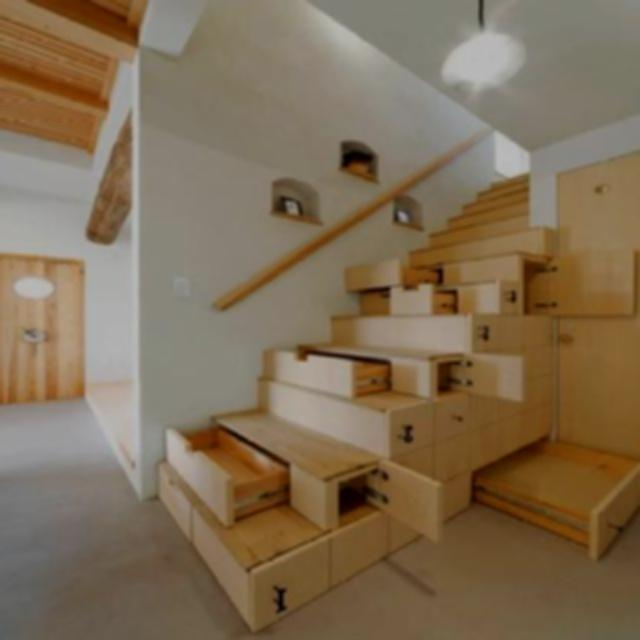stair: (100, 112, 611, 632)
